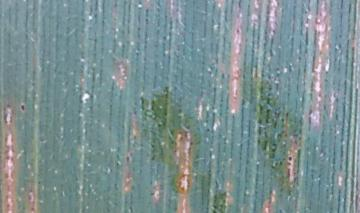tarspot: (17, 100, 27, 115), (286, 153, 294, 163)
